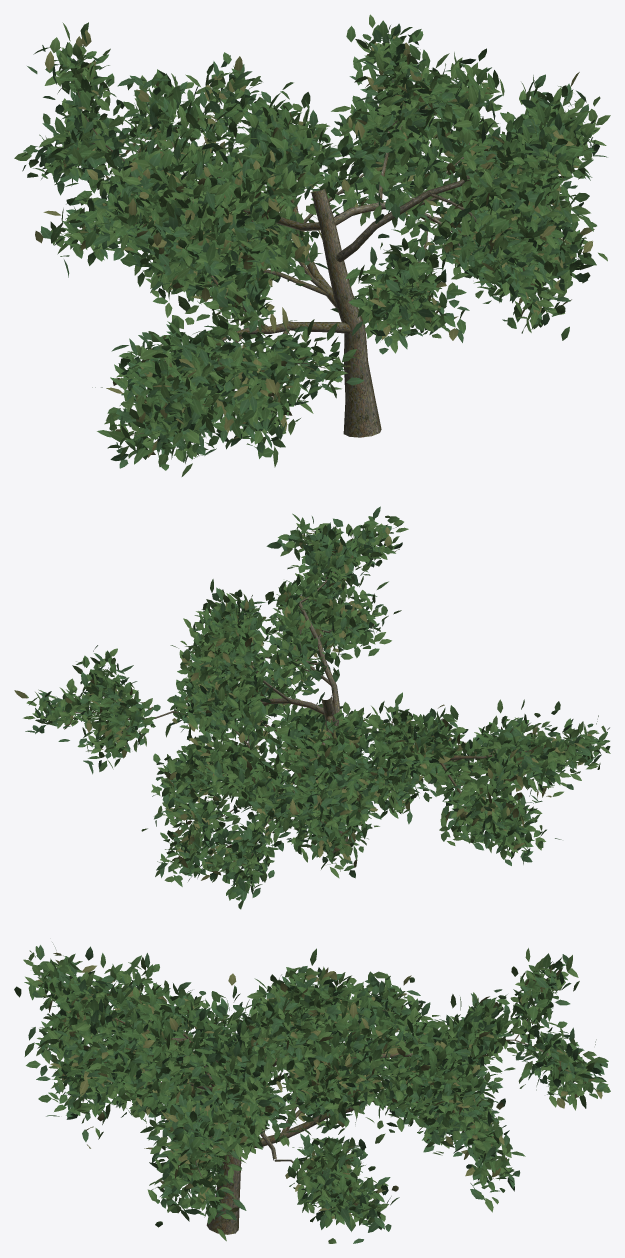
File: montane_tree.glb
3 views of the same model, one above another, from view 1: azimuth 30°, elevation 25°; view 2: azimuth 150°, elevation 25°; view 3: azimuth 270°, elevation 25° (orthographic). The views are drawn at different scales.
Parts seen in each view (by area): view 1: montane_tree; view 2: montane_tree; view 3: montane_tree.
Boxes of the visible parts, x1=… form: montane_tree: x1=14, y1=14, x2=610, y2=476; montane_tree: x1=14, y1=506, x2=610, y2=909; montane_tree: x1=14, y1=942, x2=610, y2=1243.
Size of the model in its own units: 11.91 by 6.72 by 11.74.
2 materials, 2 textured.
